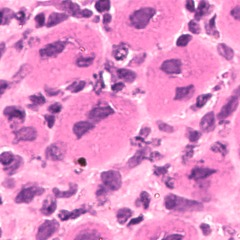New: (148, 43, 217, 119), (112, 1, 180, 49), (171, 153, 237, 196), (128, 214, 203, 240), (60, 219, 119, 240)
